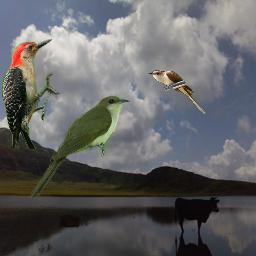Cuckoo: (29, 95, 130, 200), (148, 70, 206, 115)
Woodpecker: (2, 39, 60, 149)
